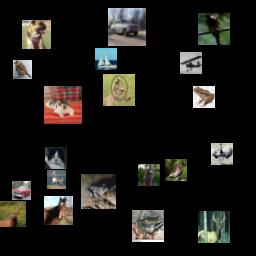airplane: (180, 52, 202, 74)
automobile: (108, 8, 146, 46), (12, 181, 31, 200)
bird: (198, 13, 230, 45), (165, 159, 187, 181), (211, 143, 233, 165), (13, 60, 32, 79)
cat: (44, 86, 82, 124), (45, 147, 67, 169), (138, 164, 160, 186)
deer: (103, 74, 135, 106), (198, 211, 230, 243), (0, 201, 26, 227), (47, 170, 66, 189)
dog: (22, 20, 51, 49)
frog: (81, 174, 116, 209), (132, 210, 164, 242), (193, 86, 215, 108)
ship: (95, 48, 117, 70)
